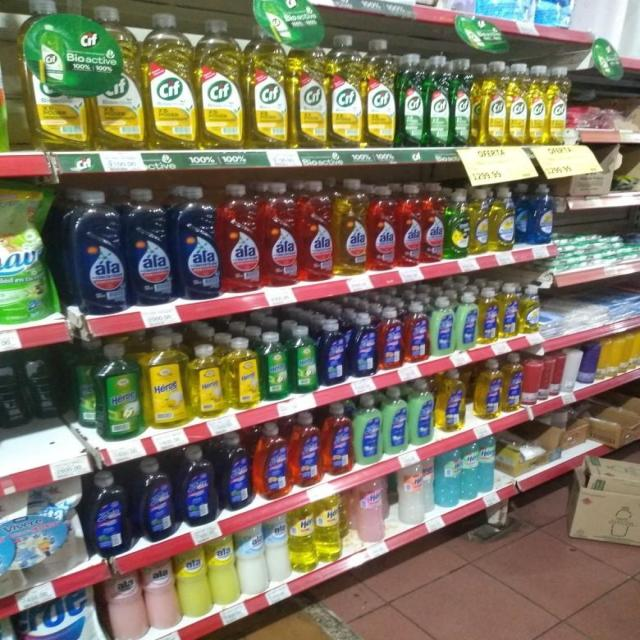ala_conc_amarillo: (334, 178, 368, 276)
ala_conc_azul: (68, 190, 126, 315), (128, 186, 172, 306), (175, 185, 219, 300)
ala_conc_rojo: (221, 183, 260, 293), (262, 181, 298, 288), (300, 179, 333, 283), (368, 184, 396, 271), (398, 183, 422, 268), (422, 185, 444, 264)
ala_crem_amarillo: (178, 544, 208, 620), (209, 535, 237, 608)
ala_crem_blanco: (238, 524, 266, 597), (266, 515, 289, 585)
ala_crem_rosado: (106, 569, 143, 640), (144, 558, 177, 632)
cif_conc_bot_amarilla: (93, 2, 142, 152), (145, 12, 195, 151), (198, 17, 244, 152), (246, 24, 288, 150), (290, 33, 327, 150), (329, 33, 364, 150), (364, 39, 396, 150), (479, 60, 506, 147), (507, 62, 527, 146), (528, 64, 547, 146), (548, 66, 567, 146)
cif_conc_botella_verde: (398, 52, 425, 148), (426, 53, 450, 148), (451, 57, 473, 147)
heroe: (461, 440, 478, 502)
magistral_con_amarillo: (190, 342, 225, 419), (491, 185, 515, 252), (471, 187, 490, 256), (520, 284, 541, 334)
magistral_con_azul: (516, 183, 528, 248)
